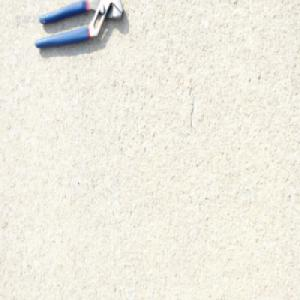Pliers: (33, 0, 124, 49)
